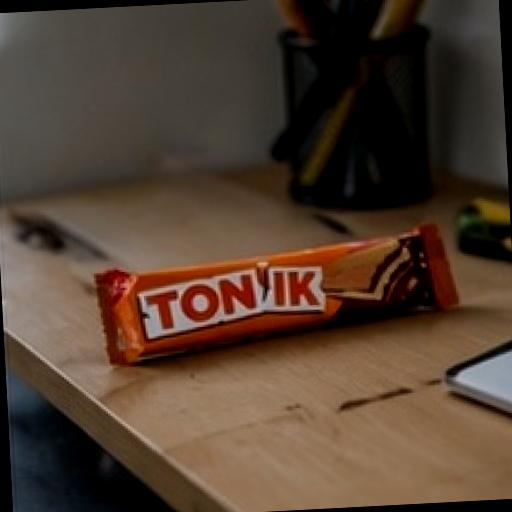tonik: (42, 176, 501, 444)
